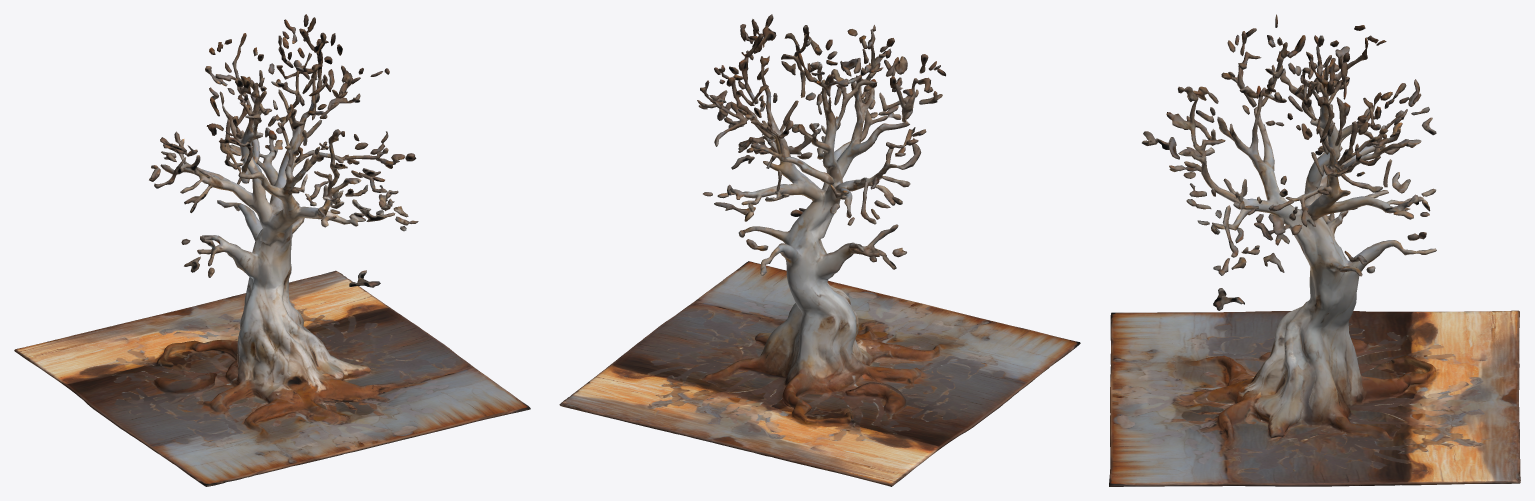
Rendered from AI_GhostGum04.fbx.
The picture shows the model from 3 angles, left to right: view 1: azimuth 30°, elevation 25°; view 2: azimuth 150°, elevation 25°; view 3: azimuth 270°, elevation 25°; orthographic projection. The views are drawn at different scales.
Parts seen in each view (by area): view 1: Mesh1.0; view 2: Mesh1.0; view 3: Mesh1.0.
Boxes of the visible parts, x1=… form: Mesh1.0: x1=14, y1=14, x2=530, y2=486; Mesh1.0: x1=559, y1=14, x2=1080, y2=486; Mesh1.0: x1=1109, y1=14, x2=1520, y2=486.
Bounding box in the file's own units: 196 × 196 × 195.
Materials: 1 (1 with a texture image).
